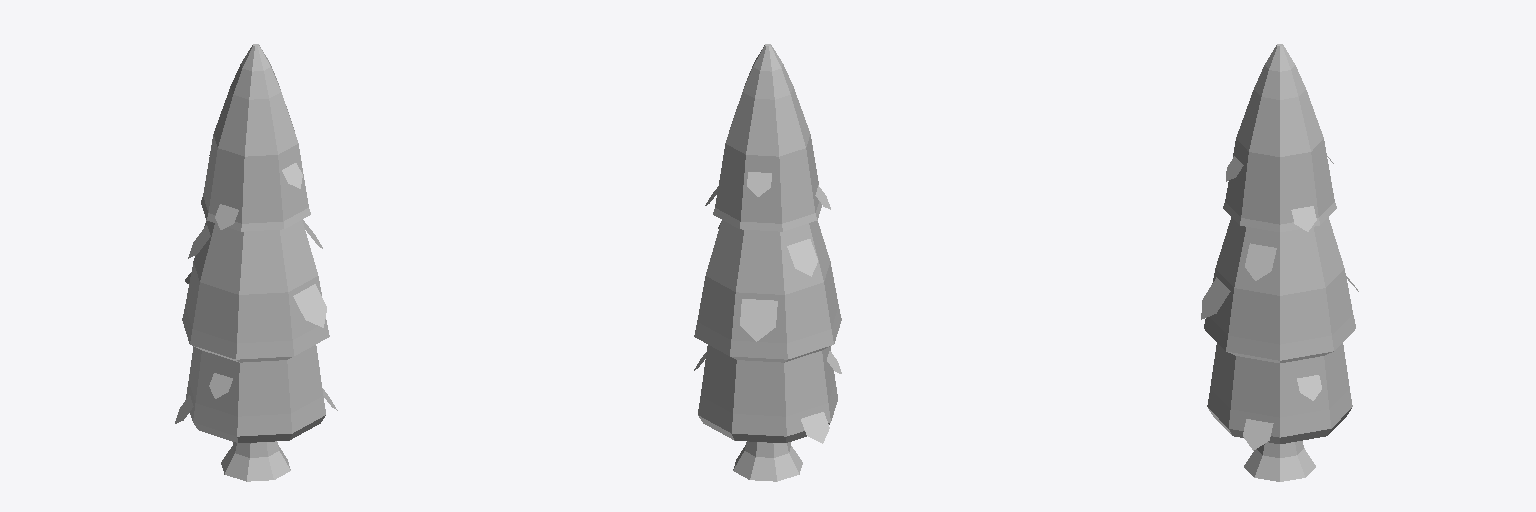
Rendered from tree.005.obj.
3 views of the same model, side by side, from view 1: azimuth 30°, elevation 25°; view 2: azimuth 150°, elevation 25°; view 3: azimuth 270°, elevation 25° (orthographic).
Visible parts, largest first — view 1: tree.005; view 2: tree.005; view 3: tree.005.
Boxes of the visible parts, x1,y1,x2,y2 form: tree.005: [175, 44, 337, 481]; tree.005: [694, 44, 841, 481]; tree.005: [1201, 44, 1358, 481].
Bounding box in the file's own units: 1.95 × 5.75 × 1.95.